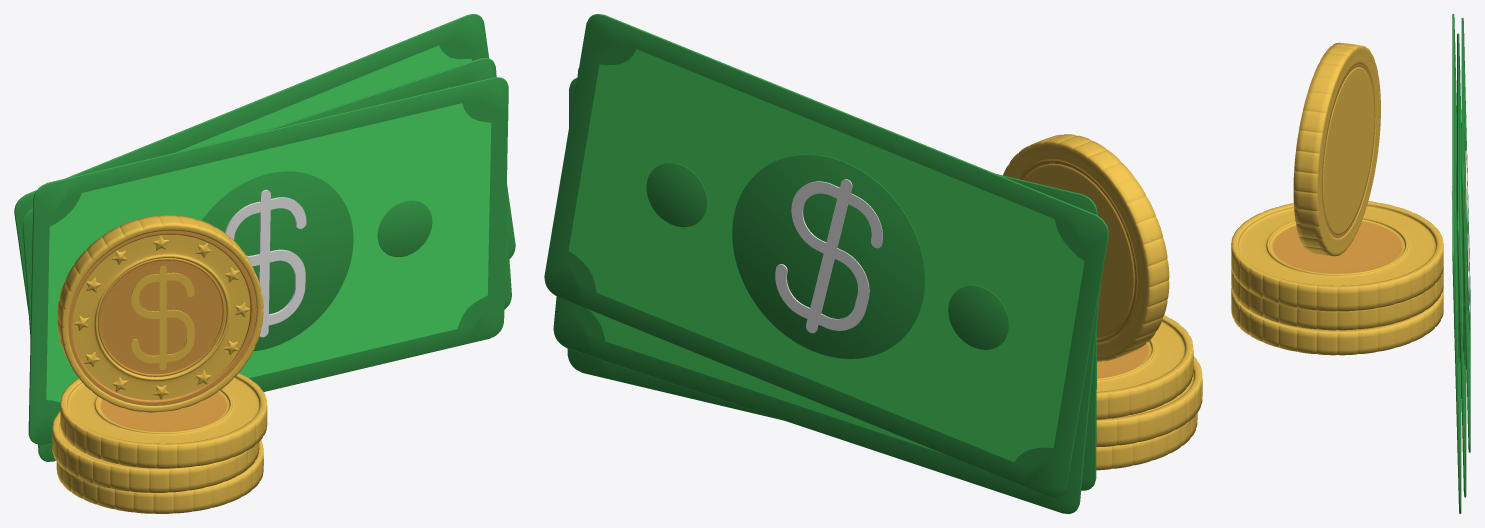
File: fiat-currency-3d-animated-icon-1584464137381.glb
3 renders of one model, left to right at view 1: azimuth 30°, elevation 25°; view 2: azimuth 150°, elevation 25°; view 3: azimuth 270°, elevation 25°, orthographic. The views are drawn at different scales.
Visible parts, largest first — view 1: Plane, Cylinder.001, Plane.001, Cylinder.004, Cylinder.003, Cylinder.002, Plane.002, Cylinder.007, Curve.001, Curve.002; view 2: Plane.001, Plane.002, Cylinder.001, Cylinder.004, Curve.003, Plane, Cylinder.003, Cylinder.002, Cylinder.007; view 3: Cylinder.004, Cylinder.001, Cylinder.002, Cylinder.003, Plane, Plane.002, Plane.001, Cylinder.007, Curve.003.
Boxes of the visible parts, x1=… form: Plane: x1=28, y1=77, x2=508, y2=444; Cylinder.001: x1=57, y1=215, x2=263, y2=412; Plane.001: x1=14, y1=14, x2=515, y2=312; Cylinder.004: x1=60, y1=373, x2=267, y2=468; Cylinder.003: x1=52, y1=411, x2=259, y2=492; Cylinder.002: x1=56, y1=440, x2=263, y2=513; Plane.002: x1=22, y1=58, x2=511, y2=461; Cylinder.007: x1=68, y1=230, x2=256, y2=405; Curve.001: x1=224, y1=189, x2=306, y2=337; Curve.002: x1=131, y1=266, x2=194, y2=369; Plane.001: x1=544, y1=14, x2=1108, y2=497; Plane.002: x1=553, y1=68, x2=1100, y2=513; Cylinder.001: x1=1003, y1=134, x2=1169, y2=361; Cylinder.004: x1=1096, y1=315, x2=1193, y2=419; Curve.003: x1=775, y1=179, x2=882, y2=333; Plane: x1=567, y1=78, x2=1097, y2=490; Cylinder.003: x1=1096, y1=356, x2=1202, y2=446; Cylinder.002: x1=1096, y1=413, x2=1197, y2=470; Cylinder.007: x1=1020, y1=160, x2=1136, y2=342; Cylinder.004: x1=1231, y1=201, x2=1443, y2=311; Cylinder.001: x1=1293, y1=42, x2=1380, y2=256; Cylinder.002: x1=1231, y1=288, x2=1443, y2=355; Cylinder.003: x1=1231, y1=269, x2=1443, y2=330; Plane: x1=1452, y1=14, x2=1461, y2=513; Plane.002: x1=1457, y1=33, x2=1466, y2=497; Plane.001: x1=1461, y1=18, x2=1470, y2=452; Cylinder.007: x1=1322, y1=63, x2=1375, y2=238; Curve.003: x1=1465, y1=150, x2=1470, y2=314.
Bounding box in the file's own units: 1.98 × 1.28 × 0.7781.
